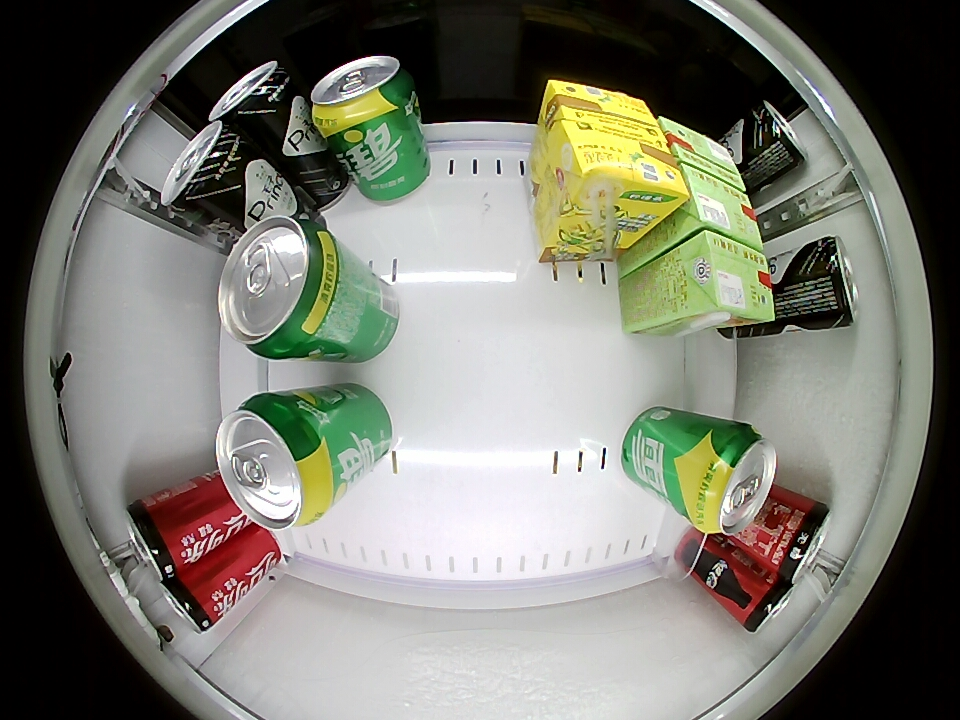lingdukele: (762, 495, 832, 583), (124, 494, 190, 582), (737, 572, 797, 633), (159, 574, 220, 633)
qingdaowangzi-1: (161, 120, 251, 218), (209, 61, 294, 134), (804, 236, 859, 330), (744, 100, 807, 173)
wanglaoji: (677, 229, 776, 326), (676, 165, 764, 247), (658, 116, 744, 189)
weitaningmeng: (548, 115, 689, 219), (541, 79, 666, 142)
xuebi2: (219, 217, 352, 359), (216, 392, 343, 531), (682, 423, 777, 536), (311, 55, 416, 135)
